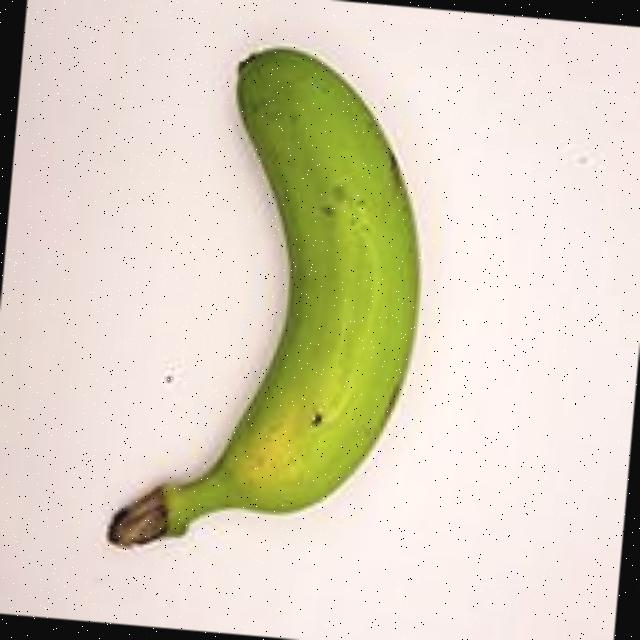Unripe: (105, 23, 458, 581)
